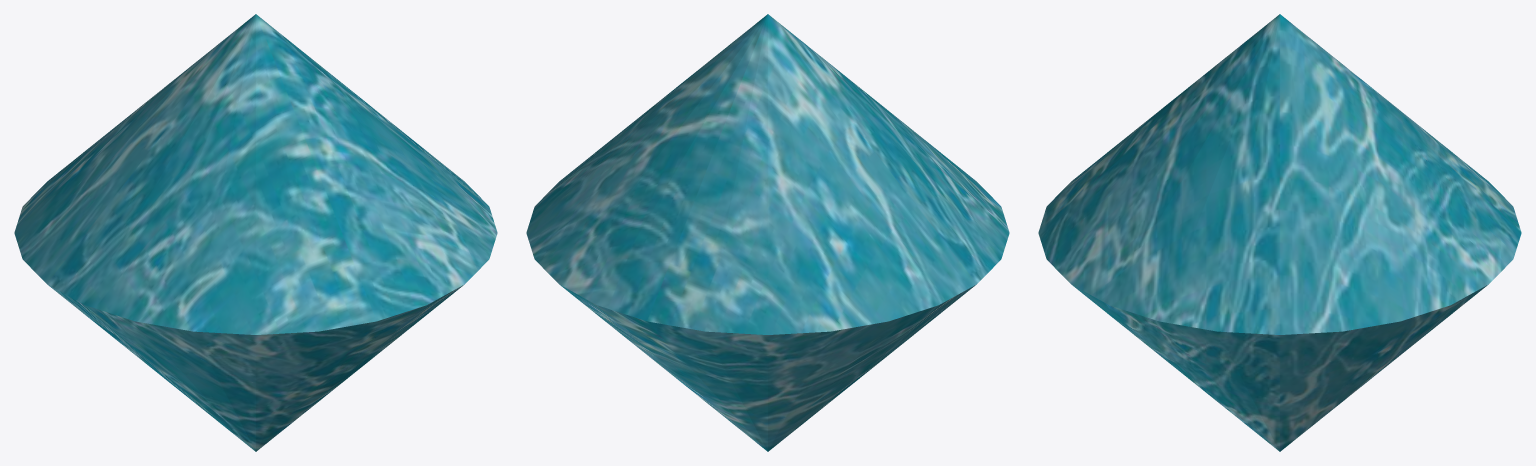
The model's file is Model TwoSpikes.dae.
3 views of the same model, side by side, from view 1: azimuth 30°, elevation 25°; view 2: azimuth 150°, elevation 25°; view 3: azimuth 270°, elevation 25° (orthographic).
Parts seen in each view (by area): view 1: SketchUp; view 2: SketchUp; view 3: SketchUp.
Boxes of the visible parts, bbox=[...] form: SketchUp: bbox=[14, 14, 497, 451]; SketchUp: bbox=[526, 14, 1009, 451]; SketchUp: bbox=[1038, 14, 1521, 451].
Bounding box in the file's own units: 78.74 × 78.74 × 78.74.
